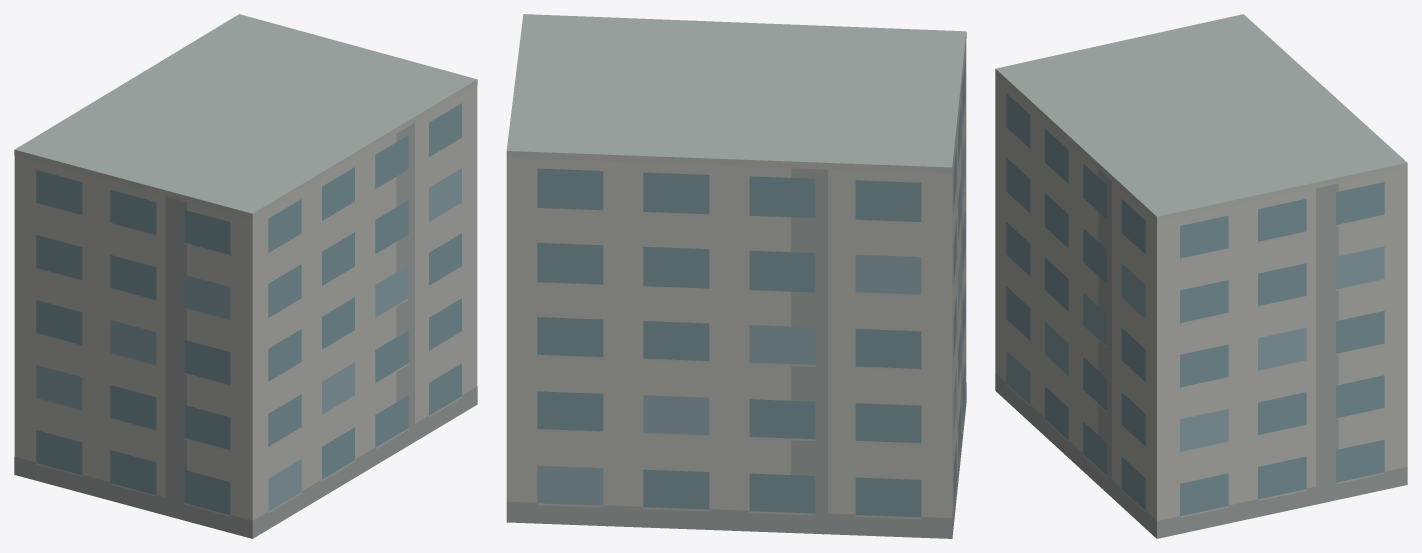
Rendered from survey-upis-32822729.glb.
The picture shows the model from 3 angles, left to right: view 1: azimuth 30°, elevation 25°; view 2: azimuth 150°, elevation 25°; view 3: azimuth 270°, elevation 25°; orthographic projection. The views are drawn at different scales.
Visible parts, largest first — view 1: survey-upis-32822729.tmp; view 2: survey-upis-32822729.tmp; view 3: survey-upis-32822729.tmp.
Boxes of the visible parts, x1,y1,x2,y2 form: survey-upis-32822729.tmp: (14, 14, 477, 538); survey-upis-32822729.tmp: (506, 14, 966, 538); survey-upis-32822729.tmp: (995, 14, 1407, 538).
Bounding box in the file's own units: 18.09 × 13.4 × 15.54.
